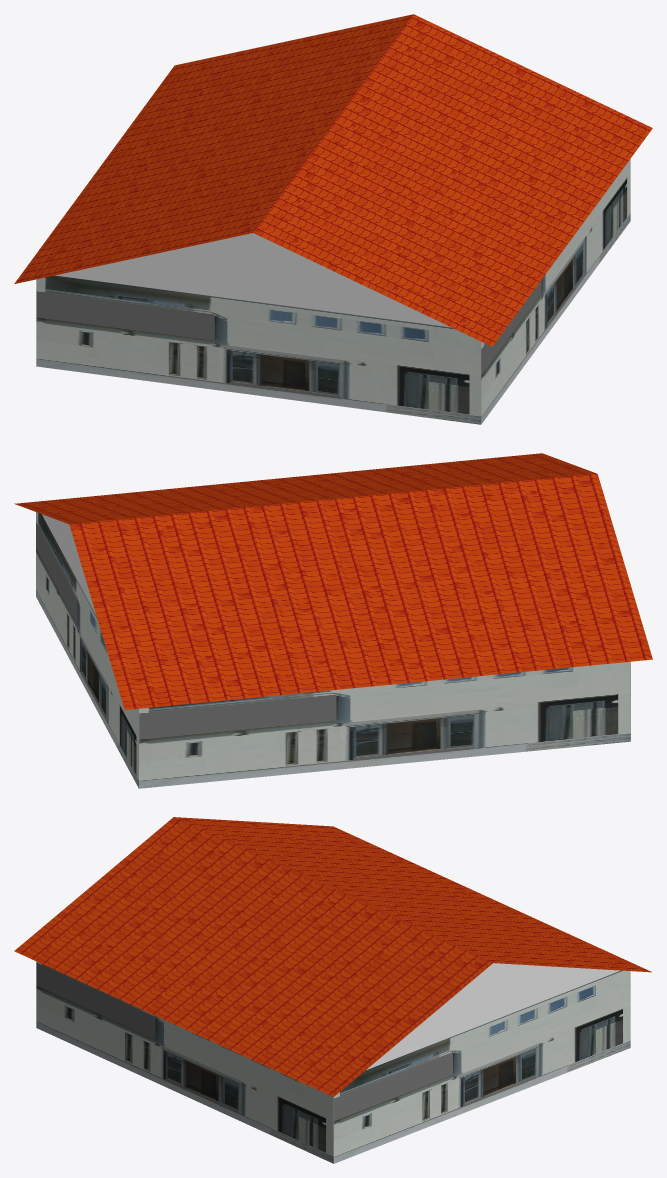
3 views of the same model, one above another, from view 1: azimuth 30°, elevation 25°; view 2: azimuth 150°, elevation 25°; view 3: azimuth 270°, elevation 25° (orthographic). The views are drawn at different scales.
Parts seen in each view (by area): view 1: CityEngineMaterial_12_m, CityEngineMaterial_11_m, CityEngineMaterial_3_m; view 2: CityEngineMaterial_12_m, CityEngineMaterial_11_m, CityEngineMaterial_3_m; view 3: CityEngineMaterial_12_m, CityEngineMaterial_11_m, CityEngineMaterial_3_m.
Boxes of the visible parts, x1=… form: CityEngineMaterial_12_m: x1=14, y1=14, x2=652, y2=346; CityEngineMaterial_11_m: x1=36, y1=159, x2=630, y2=424; CityEngineMaterial_3_m: x1=55, y1=233, x2=450, y2=327; CityEngineMaterial_12_m: x1=14, y1=453, x2=652, y2=709; CityEngineMaterial_11_m: x1=36, y1=512, x2=630, y2=788; CityEngineMaterial_3_m: x1=42, y1=514, x2=96, y2=615; CityEngineMaterial_12_m: x1=14, y1=817, x2=651, y2=1096; CityEngineMaterial_11_m: x1=36, y1=961, x2=630, y2=1163; CityEngineMaterial_3_m: x1=366, y1=963, x2=619, y2=1069.
Bounding box in the file's own units: 39.53 × 10.06 × 39.41.
